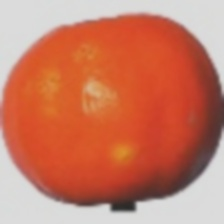tangerine: (15, 28, 195, 166)
